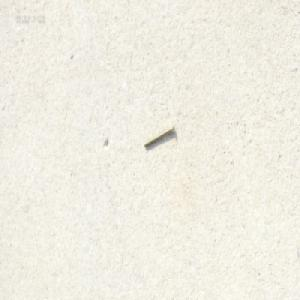Bolt: (143, 122, 174, 148)
